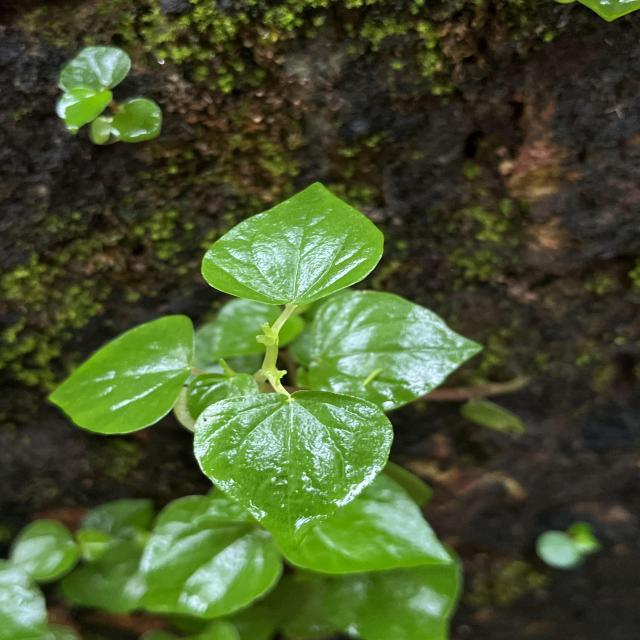Peperomia pellucida: (190, 386, 398, 554), (198, 179, 387, 309)
